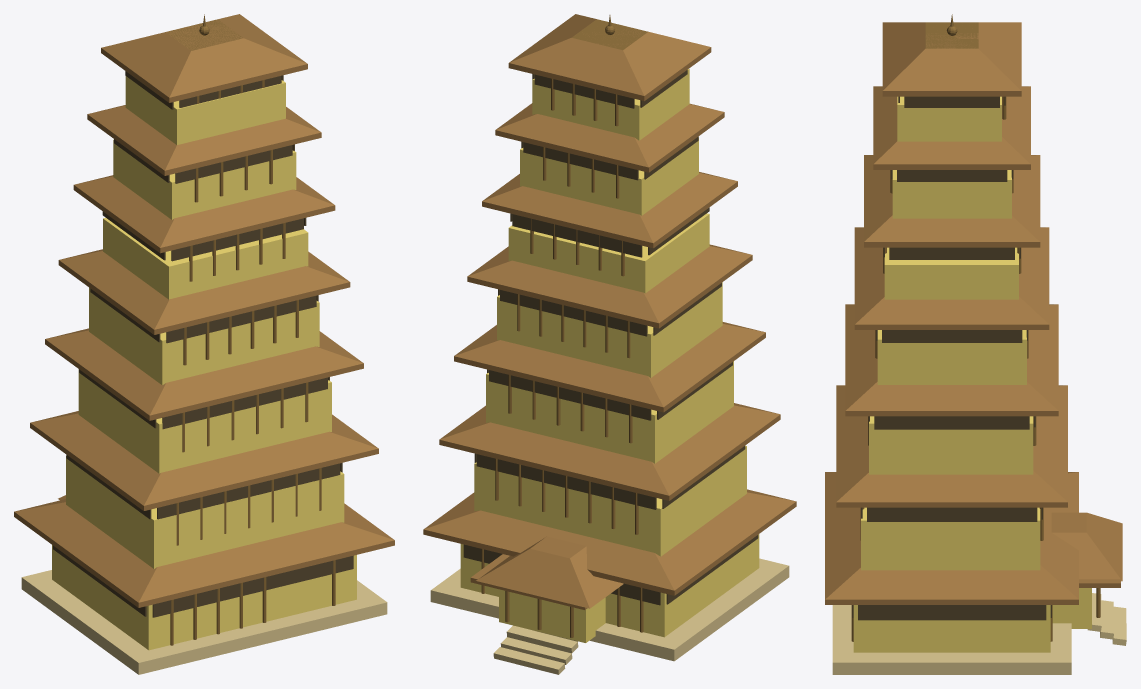
Rendered from royal_palace.glb.
The picture shows the model from 3 angles, left to right: view 1: azimuth 30°, elevation 25°; view 2: azimuth 150°, elevation 25°; view 3: azimuth 270°, elevation 25°; orthographic projection. The views are drawn at different scales.
Visible parts, largest first — view 1: FL2_W, FL1_Roof, FL2_Roof, FL3_W, Plat2, FL3_Roof, FL1_W, FL7_Roof, FL4_W, FL4_Roof, FL5_W, FL5_Roof (+18 smaller); view 2: FL2_W, FL1_Roof, FL2_Roof, FL3_W, FL3_Roof, FL4_W, FL4_Roof, FL7_Roof, Plat2, FL5_W, FL5_Roof, FL6_W (+24 smaller); view 3: FL1_Roof, FL2_Roof, FL3_Roof, FL2_W, FL7_Roof, FL4_Roof, FL3_W, FL5_Roof, Plat2, FL1_W, FL4_W, FL6_Roof (+22 smaller).
Boxes of the visible parts, x1,y1,x2,y2 form: FL2_W: [66, 456, 344, 568]; FL1_Roof: [14, 499, 394, 602]; FL2_Roof: [30, 411, 378, 505]; FL3_W: [78, 369, 331, 473]; Plat2: [21, 570, 387, 674]; FL3_Roof: [45, 328, 363, 415]; FL1_W: [52, 545, 356, 650]; FL7_Roof: [101, 14, 307, 97]; FL4_W: [89, 287, 319, 385]; FL4_Roof: [59, 249, 349, 329]; FL5_W: [103, 218, 308, 299]; FL5_Roof: [74, 175, 334, 247]; FL2_W: [474, 445, 746, 556]; FL1_Roof: [424, 489, 795, 590]; FL2_Roof: [439, 403, 780, 495]; FL3_W: [486, 361, 733, 463]; FL3_Roof: [454, 322, 765, 407]; FL4_W: [497, 282, 722, 377]; FL4_Roof: [467, 244, 751, 323]; FL7_Roof: [509, 14, 710, 95]; Plat2: [430, 558, 789, 661]; FL5_W: [508, 213, 709, 293]; FL5_Roof: [482, 172, 737, 243]; FL6_W: [520, 137, 698, 215]; FL1_Roof: [825, 472, 1078, 599]; FL2_Roof: [836, 385, 1067, 502]; FL3_Roof: [845, 304, 1058, 410]; FL2_W: [861, 507, 1040, 570]; FL7_Roof: [882, 22, 1021, 90]; FL4_Roof: [854, 227, 1049, 324]; FL3_W: [869, 416, 1033, 474]; FL5_Roof: [864, 155, 1040, 241]; Plat2: [832, 605, 1071, 674]; FL1_W: [853, 605, 1050, 652]; FL4_W: [877, 330, 1026, 384]; FL6_Roof: [873, 86, 1030, 164].
Size of the model in its own units: 10.1 by 22.77 by 10.1.
